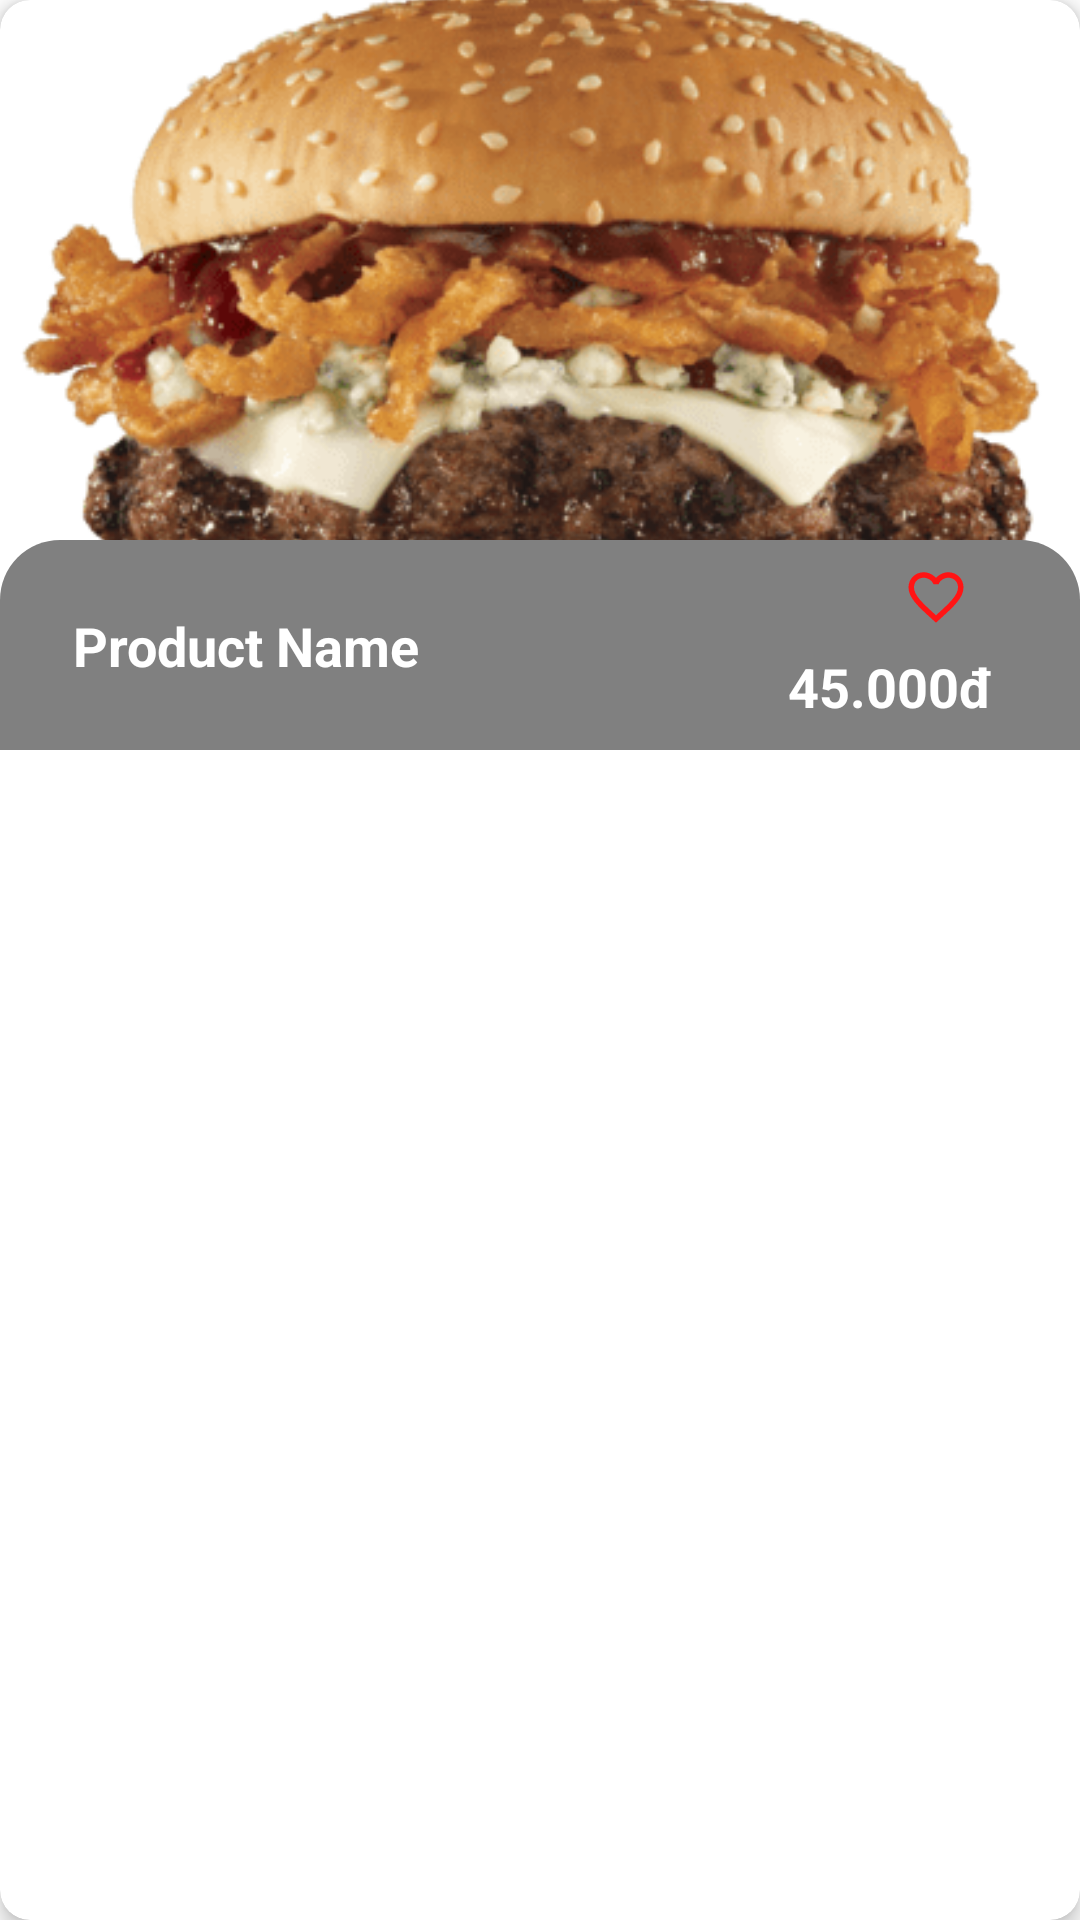

Screen size 1080 x 1920. Icon name, then its box in pixels as detection(x1, y1, x2, y2):
favorite border: detection(908, 572, 964, 623)
